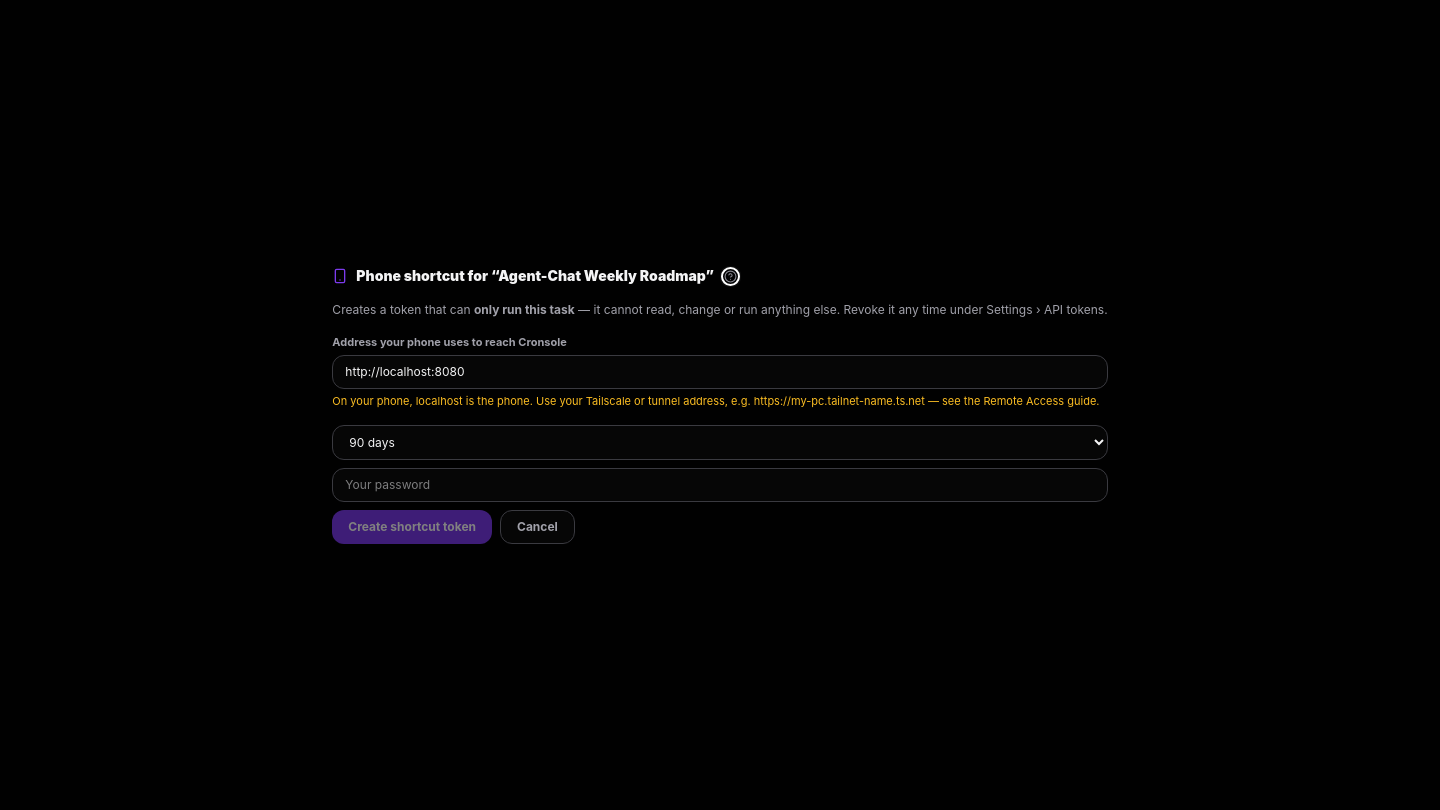
Scenario: PhoneShortcutModal › requests a token scoped to this task and shows the run URL for the phone address
Check: the text "localhost is the phone" is shown, box left=332, top=394, right=1100, bottom=408
Replace the text in the field labelled "Address your phone uses to reach Cronsole" with "https://my-pc.ts.net/": [720, 372] box left=332, top=354, right=1108, bottom=388
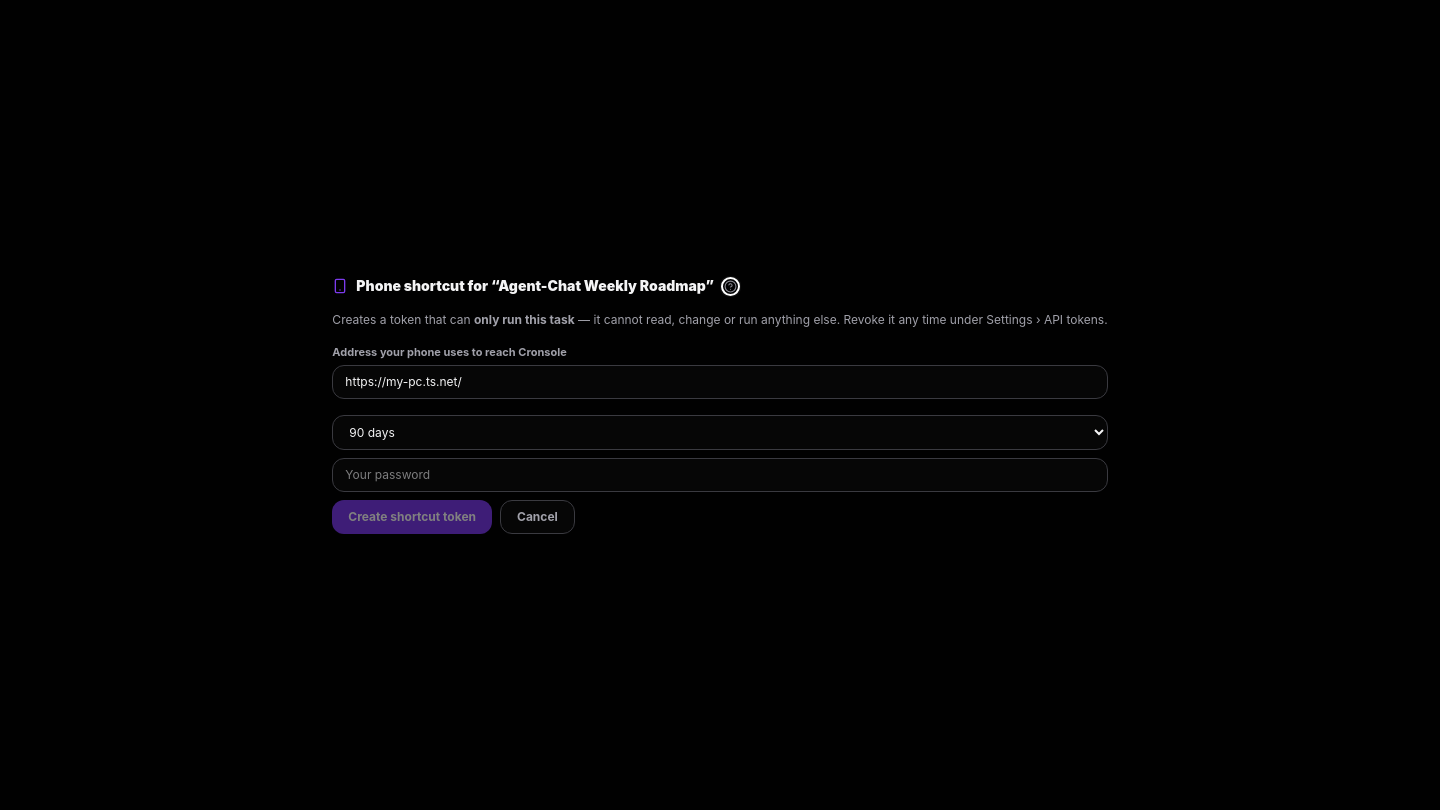
Check: the text "localhost is the phone" is gone
In the password field with placeholder "Your password": [720, 475] box left=332, top=458, right=1108, bottom=492, type "pw"
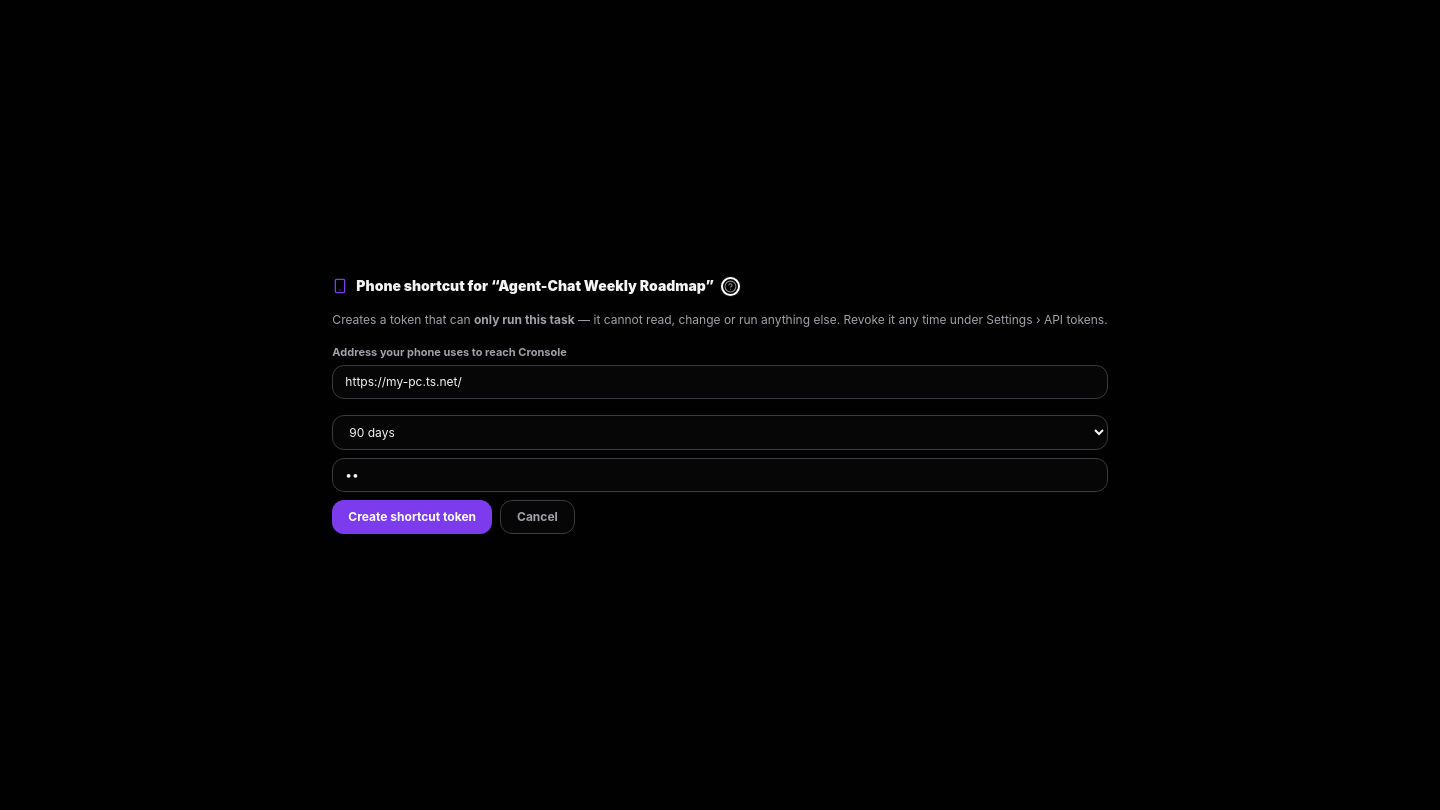
Click the button "Create shortcut token": [412, 517] box left=332, top=500, right=492, bottom=534
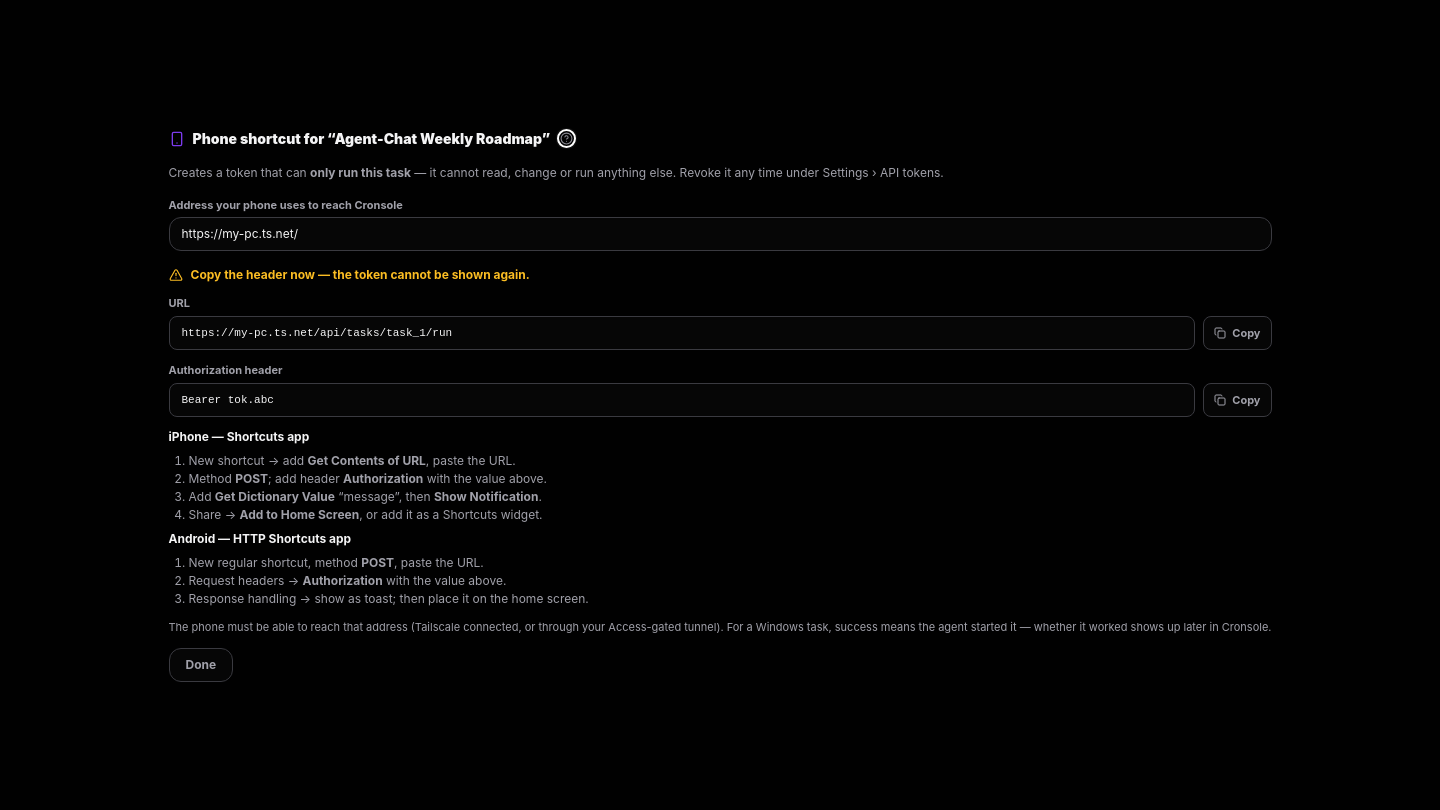
Check: the text "https://my-pc.ts.net/api/tasks/task_1/run" is shown, box left=168, top=316, right=1195, bottom=350
Check: the text "Bearer tok.abc" is shown, box left=168, top=382, right=1195, bottom=417
Check: the text "the agent started it" is shown, box left=724, top=620, right=1272, bottom=634
